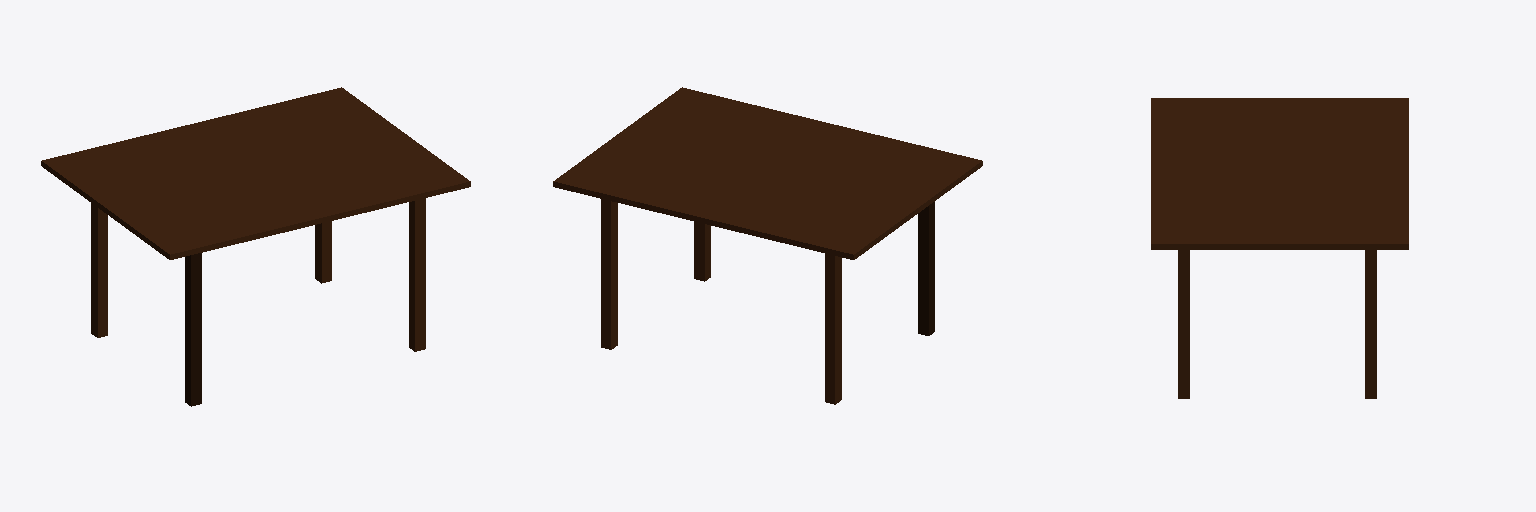
The model's file is mesa.obj.
3 views of the same model, side by side, from view 1: azimuth 30°, elevation 25°; view 2: azimuth 150°, elevation 25°; view 3: azimuth 270°, elevation 25° (orthographic).
Visible parts, largest first — view 1: Cube.004, Cube.003, Cube.007, Cube.005, Cube.008; view 2: Cube.004, Cube.005, Cube.008, Cube.003, Cube.007; view 3: Cube.004, Cube.007, Cube.008.
Boxes of the visible parts, x1,y1,x2,y2 form: Cube.004: [41, 87, 470, 259]; Cube.003: [185, 253, 201, 406]; Cube.007: [409, 198, 425, 351]; Cube.005: [91, 203, 107, 337]; Cube.008: [315, 221, 331, 283]; Cube.004: [553, 87, 982, 259]; Cube.005: [825, 253, 841, 404]; Cube.008: [601, 199, 617, 349]; Cube.003: [918, 202, 934, 335]; Cube.007: [694, 222, 710, 281]; Cube.004: [1151, 98, 1408, 249]; Cube.007: [1178, 250, 1189, 398]; Cube.008: [1365, 250, 1376, 398].
Bounding box in the file's own units: 2.24 × 1.21 × 1.66.